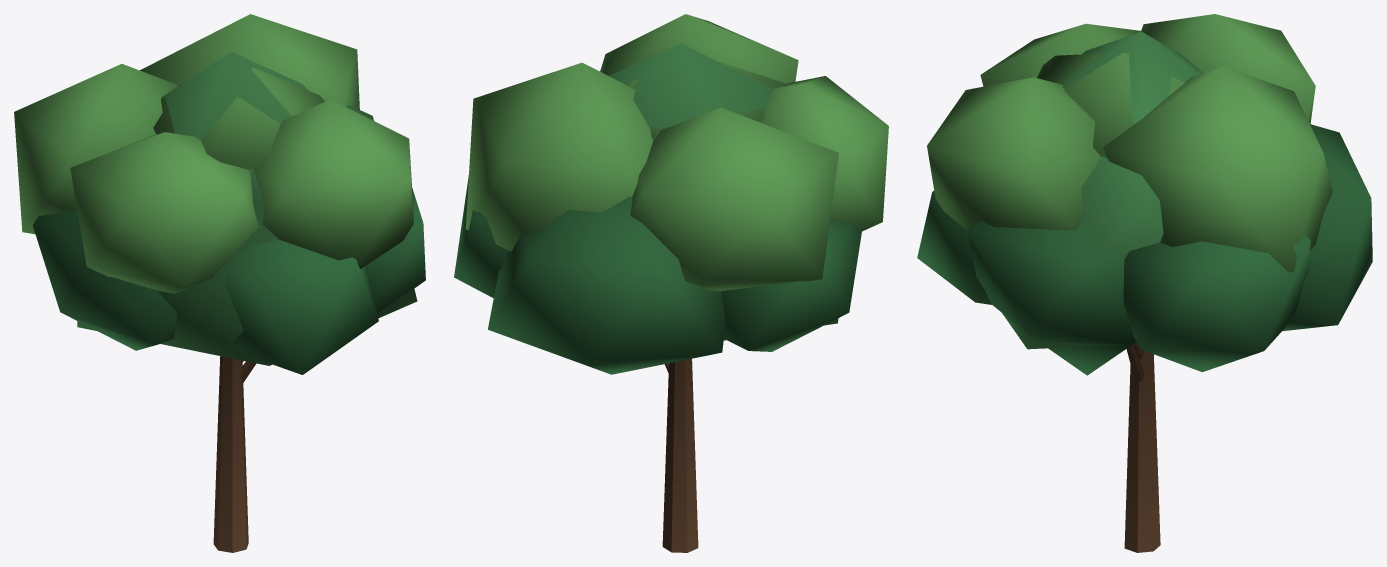
Rendered from arbol-platano-BazSPxhH.glb.
The picture shows the model from 3 angles, left to right: view 1: azimuth 30°, elevation 25°; view 2: azimuth 150°, elevation 25°; view 3: azimuth 270°, elevation 25°; orthographic projection. The views are drawn at different scales.
Visible parts, largest first — view 1: copa.006, copa.008, copa.007, copa.004, copa, copa.005, copa.002, cilindro, copa.010, copa.009; view 2: copa.004, copa.003, copa.002, copa.006, copa.005, copa, copa.008, cilindro, copa.001, copa.010; view 3: copa.002, copa.008, copa.001, copa.009, copa, copa.003, copa.004, cilindro, copa.010, copa.007, copa.006.
Part boxes in pixels (<box>): copa.006: <box>70,132,258,293</box>; copa.008: <box>254,99,413,268</box>; copa.007: <box>225,239,378,374</box>; copa.004: <box>14,64,178,234</box>; copa: <box>77,52,417,365</box>; copa.005: <box>32,210,177,350</box>; copa.002: <box>140,14,359,109</box>; cilindro: <box>213,356,248,552</box>; copa.010: <box>153,67,325,169</box>; copa.009: <box>365,187,425,312</box>; copa.004: <box>630,107,838,291</box>; copa.003: <box>488,196,725,374</box>; copa.002: <box>465,62,653,251</box>; copa.006: <box>761,76,888,231</box>; copa.005: <box>721,221,862,351</box>; copa: <box>608,43,838,340</box>; copa.008: <box>600,14,798,83</box>; cilindro: <box>662,358,698,552</box>; copa.001: <box>454,175,507,297</box>; copa.010: <box>608,61,789,139</box>; copa.002: <box>1103,66,1332,272</box>; copa.008: <box>927,77,1100,230</box>; copa.001: <box>1123,235,1310,372</box>; copa.009: <box>967,219,1136,375</box>; copa: <box>1002,31,1202,349</box>; copa.003: <box>1282,124,1372,331</box>; copa.004: <box>1141,14,1315,123</box>; cilindro: <box>1124,351,1160,552</box>; copa.010: <box>1037,52,1202,157</box>; copa.007: <box>917,190,991,304</box>; copa.006: <box>980,23,1140,86</box>.
Bounding box in the file's own units: 6.14 × 8.22 × 6.61.
